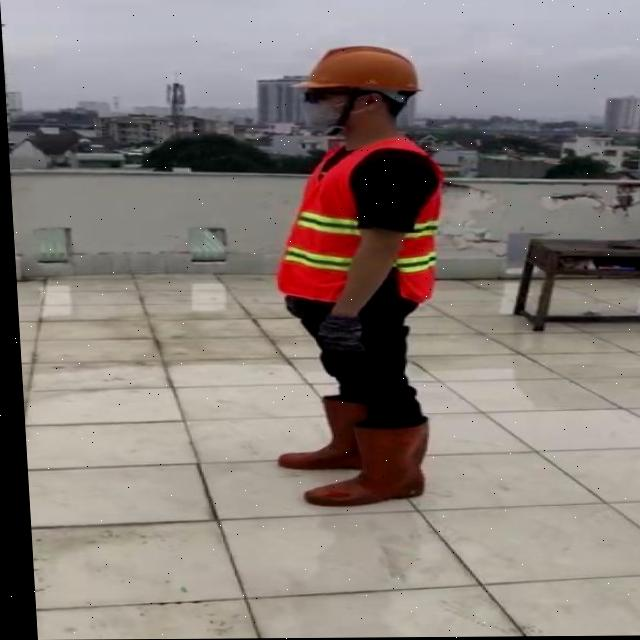Gloves: (312, 314, 364, 355)
Helmet: (287, 45, 422, 102)
Safety-Boot: (294, 416, 429, 507), (269, 393, 367, 470)
Safety-Vest: (268, 136, 449, 308)
